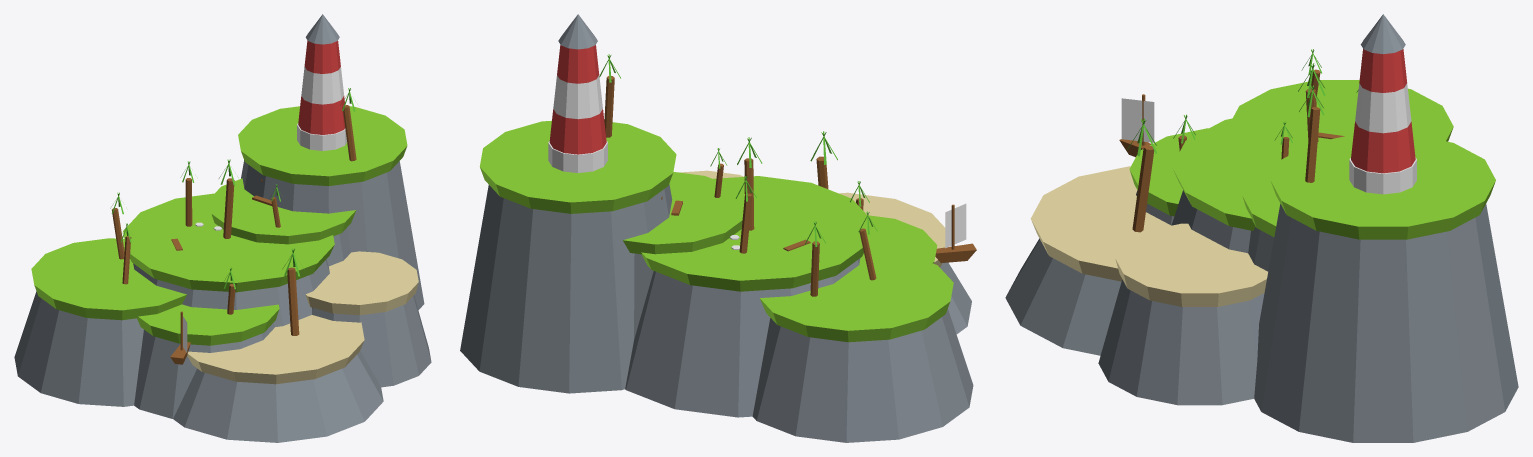
Rendered from sunlit_shores_pro.glb.
3 renders of one model, left to right at view 1: azimuth 30°, elevation 25°; view 2: azimuth 150°, elevation 25°; view 3: azimuth 270°, elevation 25°, orthographic. The views are drawn at different scales.
Visible parts, largest first — view 1: Rock.003, GrassCap, Rock.002, GrassCap.001, GrassCap.002, Rock.001, SandCap, SandCap.001, Rock.004, GrassCap.003, Rock.006, GrassCap.004 (+10 smaller); view 2: Rock.001, Rock.002, Rock, GrassCap, GrassCap.001, GrassCap.002, GrassCap.003, GrassCap.004, Cylinder.001, SandCap, Cylinder.002, Cylinder.003 (+7 smaller); view 3: Rock.001, Rock.004, GrassCap.001, GrassCap, SandCap.001, SandCap, Rock.003, GrassCap.002, Cylinder.001, GrassCap.004, Cylinder.002, Rock (+8 smaller).
Boxes of the visible parts, bbox=[...] form: Rock.003: bbox=[173, 350, 383, 442]; GrassCap: bbox=[123, 193, 334, 292]; Rock.002: bbox=[14, 291, 143, 406]; GrassCap.001: bbox=[238, 106, 407, 186]; GrassCap.002: bbox=[31, 238, 186, 320]; Rock.001: bbox=[241, 160, 424, 309]; SandCap: bbox=[187, 315, 364, 384]; SandCap.001: bbox=[305, 251, 418, 315]; Rock.004: bbox=[312, 295, 431, 387]; GrassCap.003: bbox=[209, 178, 356, 244]; Rock.006: bbox=[134, 323, 274, 418]; GrassCap.004: bbox=[137, 304, 279, 345]; Rock.001: bbox=[460, 184, 672, 393]; Rock.002: bbox=[752, 309, 973, 442]; Rock: bbox=[625, 258, 860, 417]; GrassCap: bbox=[641, 176, 872, 291]; GrassCap.001: bbox=[479, 120, 676, 213]; GrassCap.002: bbox=[760, 248, 953, 342]; GrassCap.003: bbox=[623, 172, 744, 254]; GrassCap.004: bbox=[868, 215, 937, 263]; Cylinder.001: bbox=[549, 109, 606, 154]; SandCap: bbox=[839, 192, 945, 267]; Cylinder.002: bbox=[553, 75, 602, 119]; Cylinder.003: bbox=[557, 45, 599, 83]; Rock.001: bbox=[1254, 203, 1518, 442]; Rock.004: bbox=[1098, 279, 1264, 405]; GrassCap.001: bbox=[1270, 134, 1495, 239]; GrassCap: bbox=[1172, 108, 1437, 230]; SandCap.001: bbox=[1115, 223, 1267, 306]; SandCap: bbox=[1030, 166, 1170, 281]; Rock.003: bbox=[1005, 238, 1121, 355]; GrassCap.002: bbox=[1233, 80, 1453, 141]; Cylinder.001: bbox=[1351, 121, 1415, 173]; GrassCap.004: bbox=[1129, 128, 1208, 216]; Cylinder.002: bbox=[1355, 83, 1411, 133]; Rock: bbox=[1171, 190, 1250, 253].
Size of the model in its own units: 21.36 by 14.6 by 18.2.
